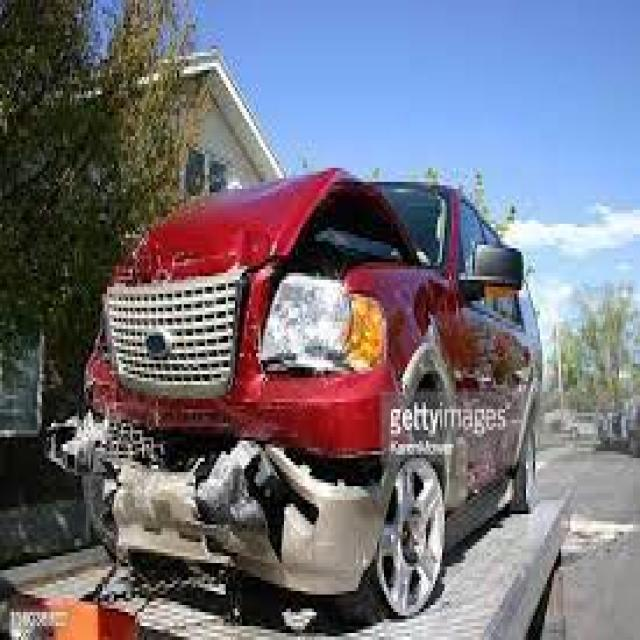severe: (90, 130, 523, 640)
